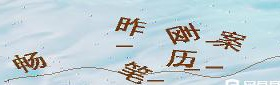chinese: (115, 10, 149, 39), (13, 49, 47, 74), (217, 25, 248, 51), (166, 24, 201, 46), (119, 61, 153, 81), (169, 51, 199, 69)
